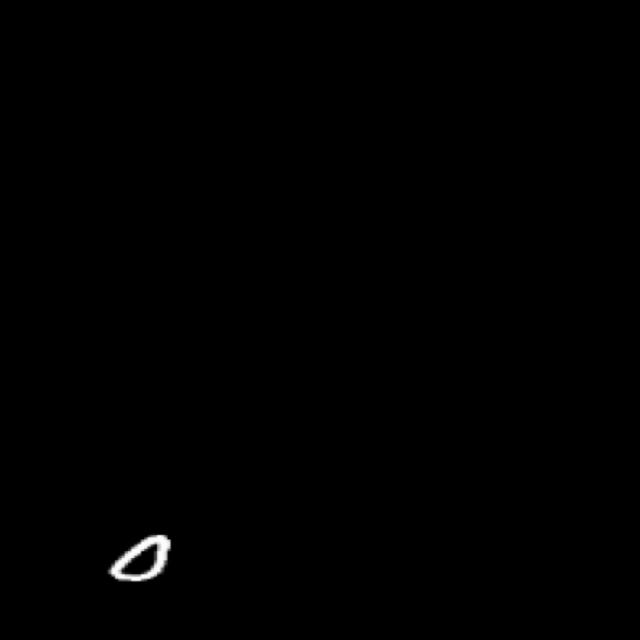zero -0-: (97, 517, 182, 608)
